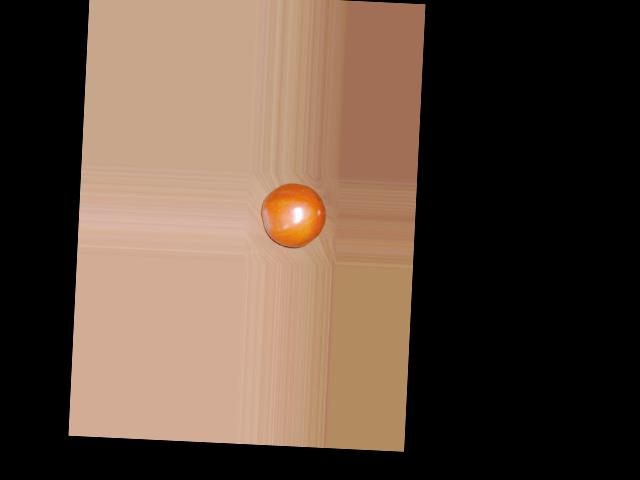tomato: (260, 181, 327, 249)
